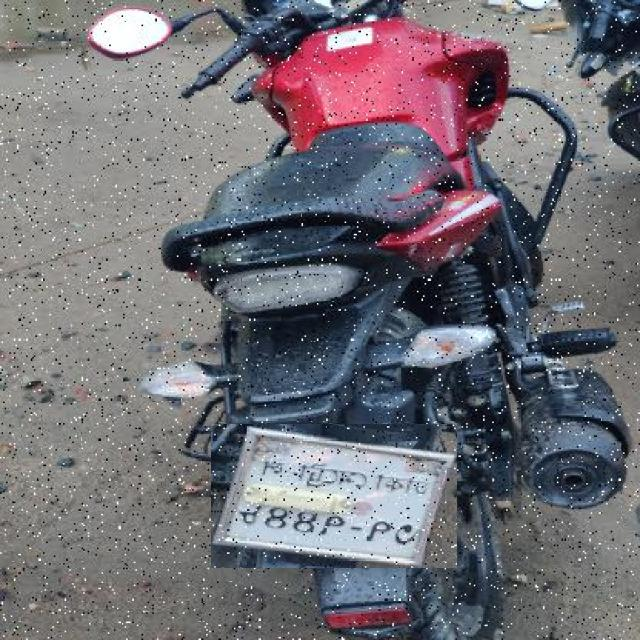numberplate: (211, 424, 457, 568)
